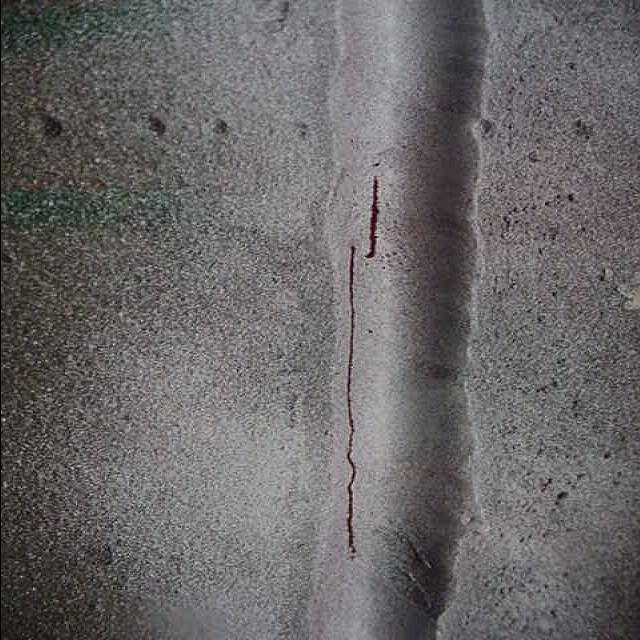defect: (338, 238, 366, 567), (360, 169, 389, 261)
